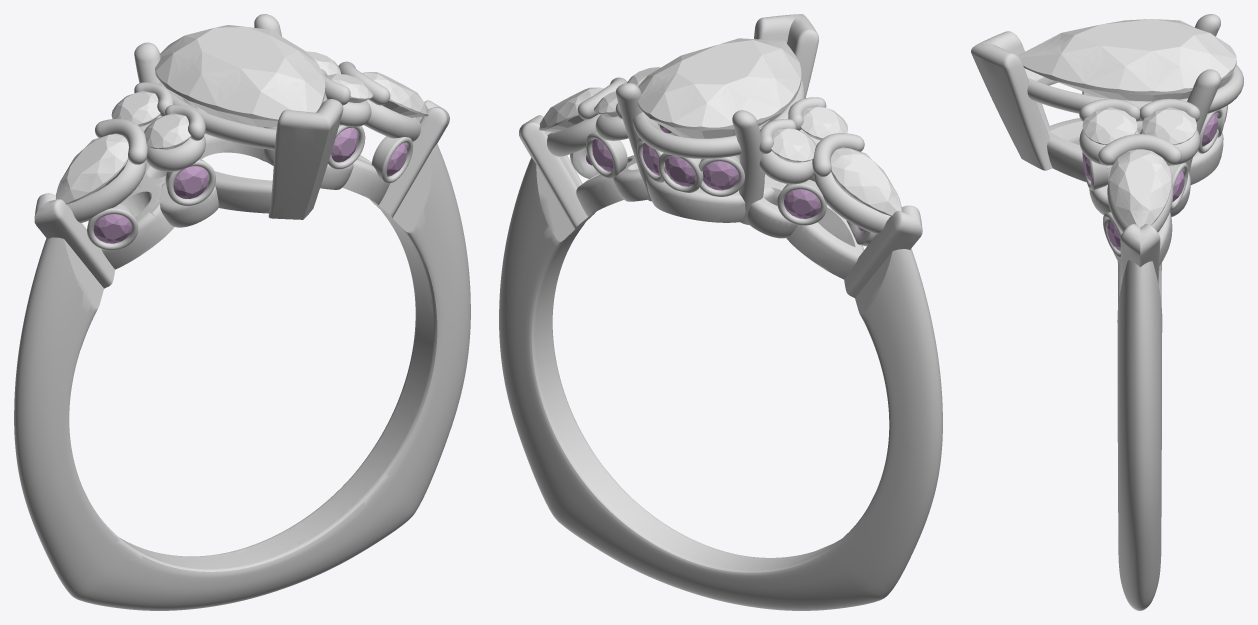
The model's file is ChrisVringv2.glb.
3 views of the same model, side by side, from view 1: azimuth 30°, elevation 25°; view 2: azimuth 150°, elevation 25°; view 3: azimuth 270°, elevation 25° (orthographic). The views are drawn at different scales.
Parts seen in each view (by area): view 1: Chris PT for 3d model v2, Chris dia for 3d model.001, Chris dia for 3d model.002, Chris dia for 3d model.005, Chris dia for 3d model, Chris dia for 3d model.006, Chris sapphire for 3d model v2.007, Chris sapphire for 3d model v2.008, Chris sapphire for 3d model v2.005, Chris dia for 3d model.003; view 2: Chris PT for 3d model v2, Chris dia for 3d model.001, Chris dia for 3d model.002, Chris dia for 3d model, Chris dia for 3d model.006, Chris dia for 3d model.005, Chris sapphire for 3d model v2.004, Chris sapphire for 3d model v2.001, Chris sapphire for 3d model v2.002; view 3: Chris PT for 3d model v2, Chris dia for 3d model.001, Chris dia for 3d model, Chris dia for 3d model.003, Chris dia for 3d model.004.
Part boxes in pixels (left/top/right/bottom): Chris PT for 3d model v2: left=14, top=14, right=470, bottom=610; Chris dia for 3d model.001: left=155, top=25, right=325, bottom=127; Chris dia for 3d model.002: left=56, top=133, right=128, bottom=204; Chris dia for 3d model.005: left=144, top=113, right=191, bottom=149; Chris dia for 3d model: left=362, top=72, right=428, bottom=117; Chris dia for 3d model.006: left=111, top=91, right=160, bottom=126; Chris sapphire for 3d model v2.007: left=173, top=166, right=208, bottom=198; Chris sapphire for 3d model v2.008: left=93, top=214, right=131, bottom=243; Chris sapphire for 3d model v2.005: left=331, top=128, right=358, bottom=162; Chris dia for 3d model.003: left=326, top=73, right=373, bottom=102; Chris PT for 3d model v2: left=499, top=14, right=942, bottom=610; Chris dia for 3d model.001: left=637, top=38, right=801, bottom=138; Chris dia for 3d model.002: left=831, top=147, right=901, bottom=216; Chris dia for 3d model: left=539, top=87, right=603, bottom=132; Chris dia for 3d model.006: left=770, top=127, right=816, bottom=162; Chris dia for 3d model.005: left=800, top=105, right=847, bottom=140; Chris sapphire for 3d model v2.004: left=784, top=189, right=820, bottom=218; Chris sapphire for 3d model v2.001: left=702, top=161, right=738, bottom=190; Chris sapphire for 3d model v2.002: left=665, top=156, right=695, bottom=186; Chris PT for 3d model v2: left=971, top=14, right=1243, bottom=610; Chris dia for 3d model.001: left=1018, top=19, right=1236, bottom=101; Chris dia for 3d model: left=1109, top=149, right=1171, bottom=227; Chris dia for 3d model.003: left=1082, top=107, right=1137, bottom=144; Chris dia for 3d model.004: left=1142, top=107, right=1196, bottom=144.
Bounding box in the file's own units: 20.5 × 23.8 × 10.98.
